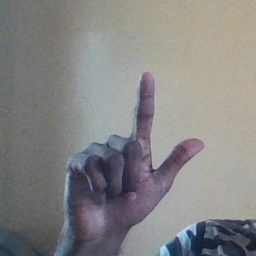L: (56, 72, 209, 235)
